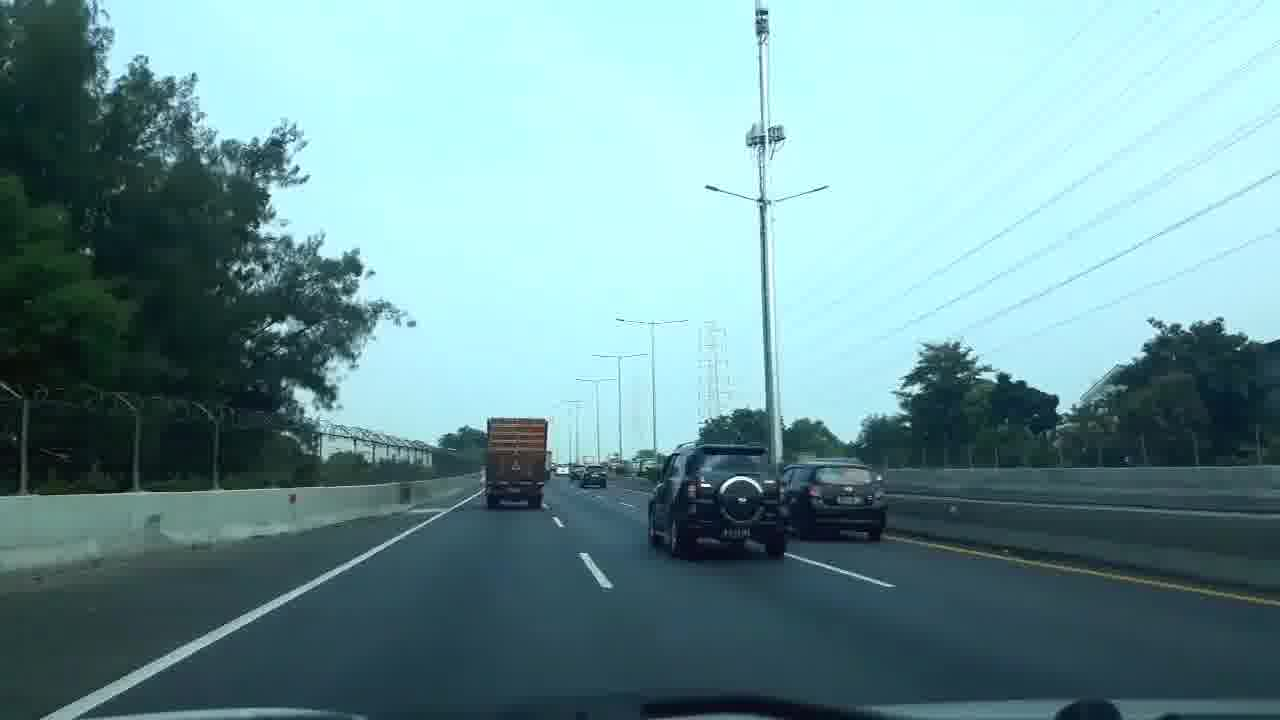plate_positive: (720, 526, 751, 538), (836, 496, 863, 506)
